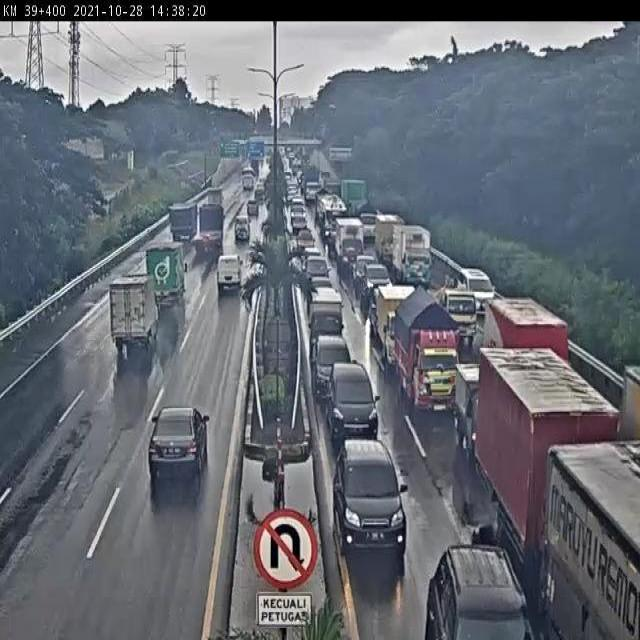big truck: (480, 338, 617, 562), (555, 448, 640, 640), (478, 301, 577, 388), (195, 206, 226, 253), (165, 199, 198, 237), (206, 187, 232, 216)
car: (422, 532, 541, 640), (335, 440, 417, 568), (135, 384, 209, 497), (323, 351, 376, 426), (310, 336, 359, 397), (456, 265, 501, 311), (306, 294, 346, 342), (212, 247, 249, 294), (365, 267, 392, 297), (233, 216, 255, 249), (245, 196, 262, 220)
small truck: (393, 280, 469, 425), (368, 276, 423, 368), (449, 359, 499, 440), (103, 270, 155, 346), (143, 242, 189, 302), (432, 287, 480, 341), (395, 225, 436, 287), (374, 213, 402, 264)
